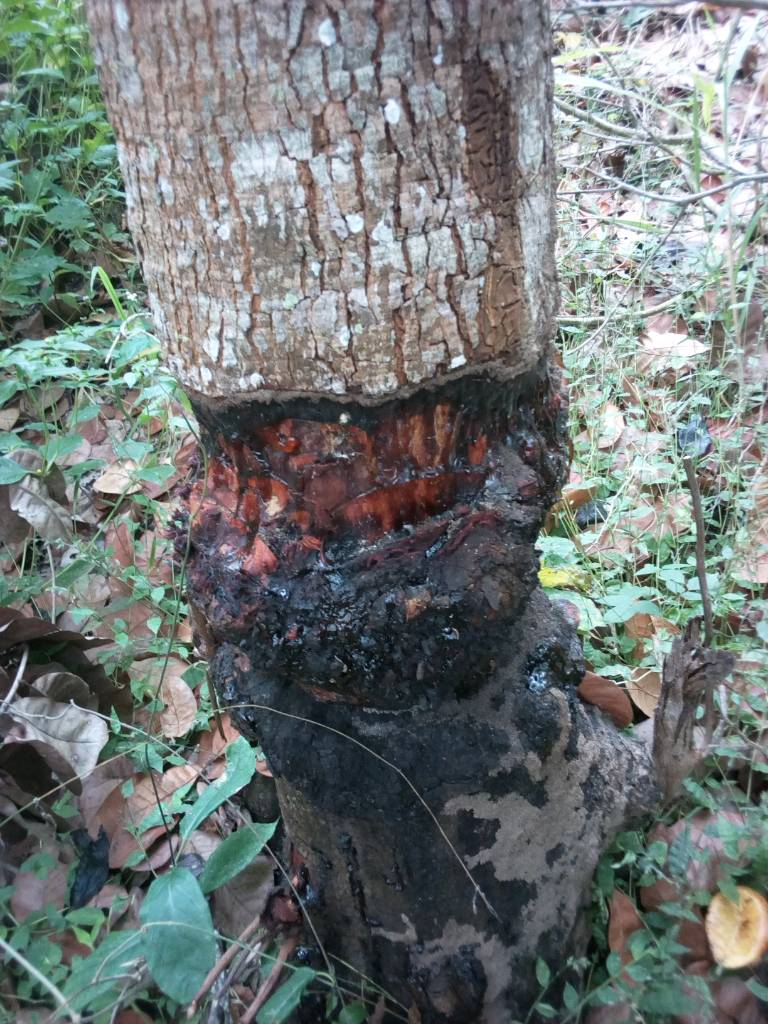Gommose: (165, 375, 554, 685)
